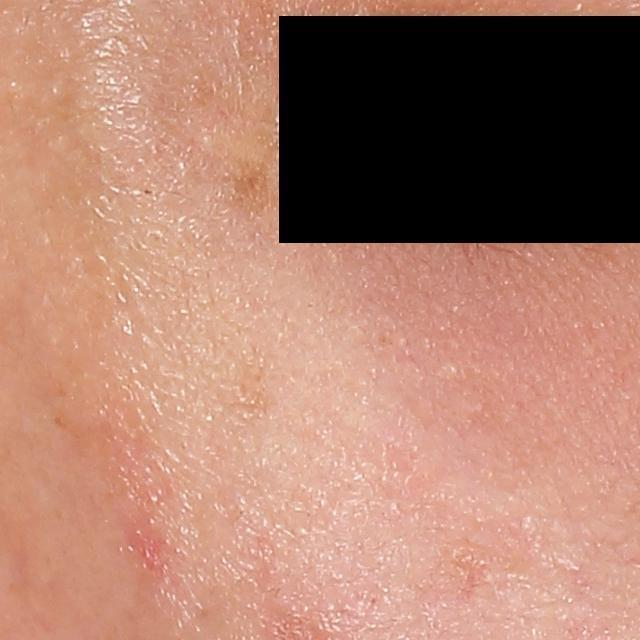melasma: (215, 160, 277, 233)
